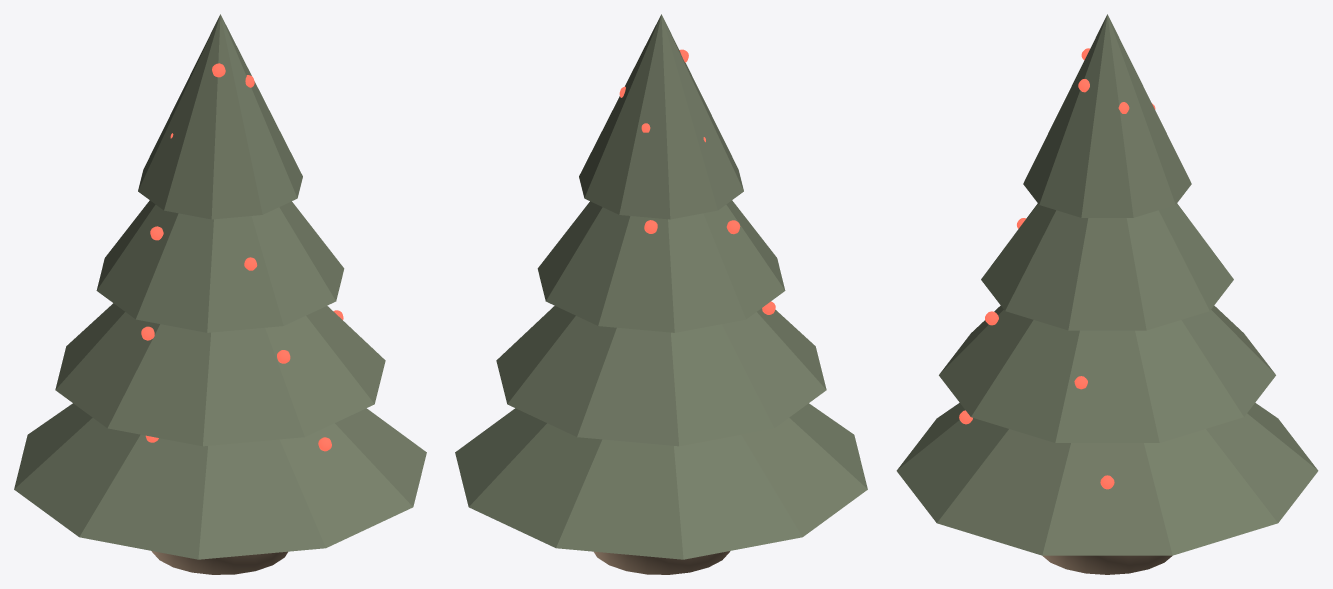
File: christmas_tree.glb
The picture shows the model from 3 angles, left to right: view 1: azimuth 30°, elevation 25°; view 2: azimuth 150°, elevation 25°; view 3: azimuth 270°, elevation 25°; orthographic projection.
Visible parts, largest first — view 1: dead_pine, cyl, tree_bulbs; view 2: dead_pine, cyl, tree_bulbs; view 3: dead_pine, cyl, tree_bulbs.
Boxes of the visible parts, left/top/right/bottom form: dead_pine: left=14, top=14, right=426, bottom=559; cyl: left=151, top=551, right=287, bottom=574; tree_bulbs: left=141, top=63, right=343, bottom=451; dead_pine: left=455, top=14, right=867, bottom=559; cyl: left=594, top=551, right=730, bottom=574; tree_bulbs: left=619, top=49, right=775, bottom=314; dead_pine: left=896, top=14, right=1318, bottom=555; cyl: left=1042, top=555, right=1172, bottom=574; tree_bulbs: left=959, top=48, right=1155, bottom=489.
Size of the model in its own units: 1.71 by 2.5 by 1.8.
